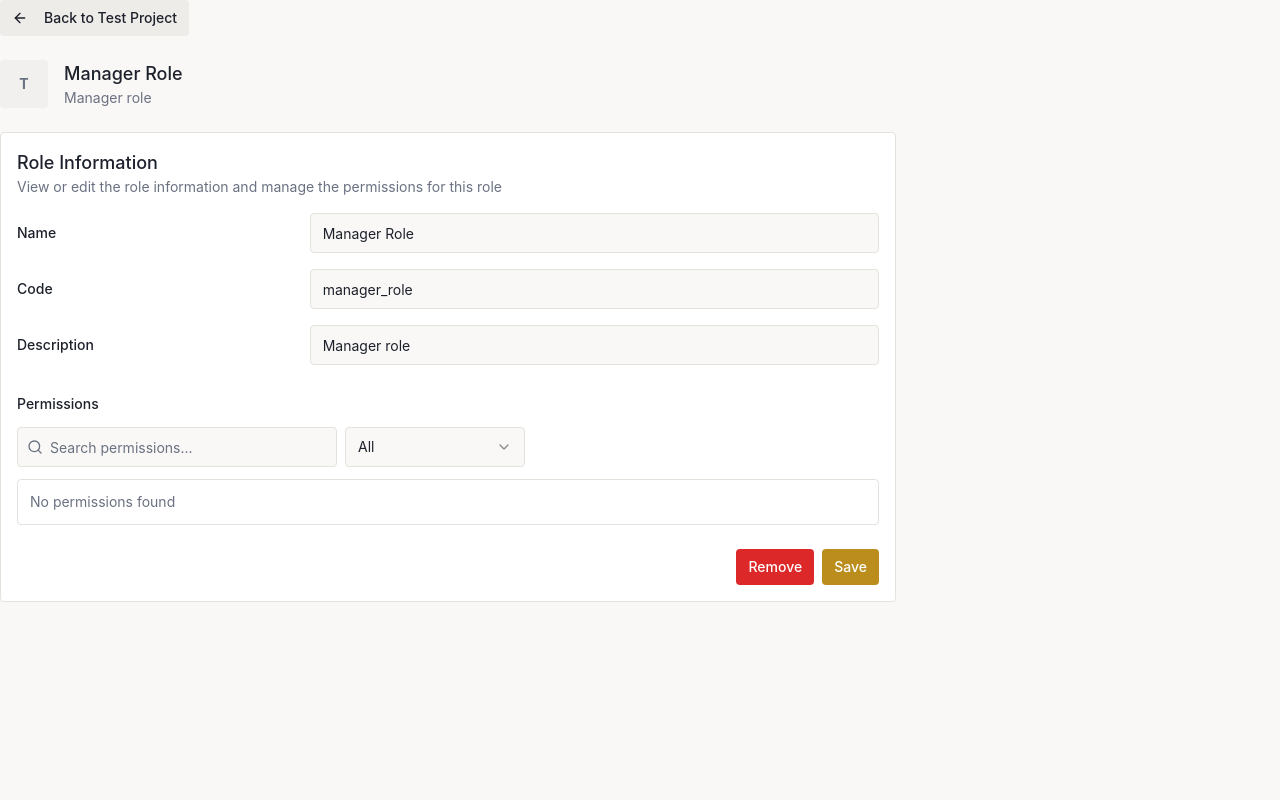
it: RoleDetails Page › opens confirm dialog when Remove is clicked
The image size is (1280, 800).
Check: the field showing "Manager Role" is shown, box [310,213,879,253]
Click the button "Remove": (775, 567) [736,549,814,585]
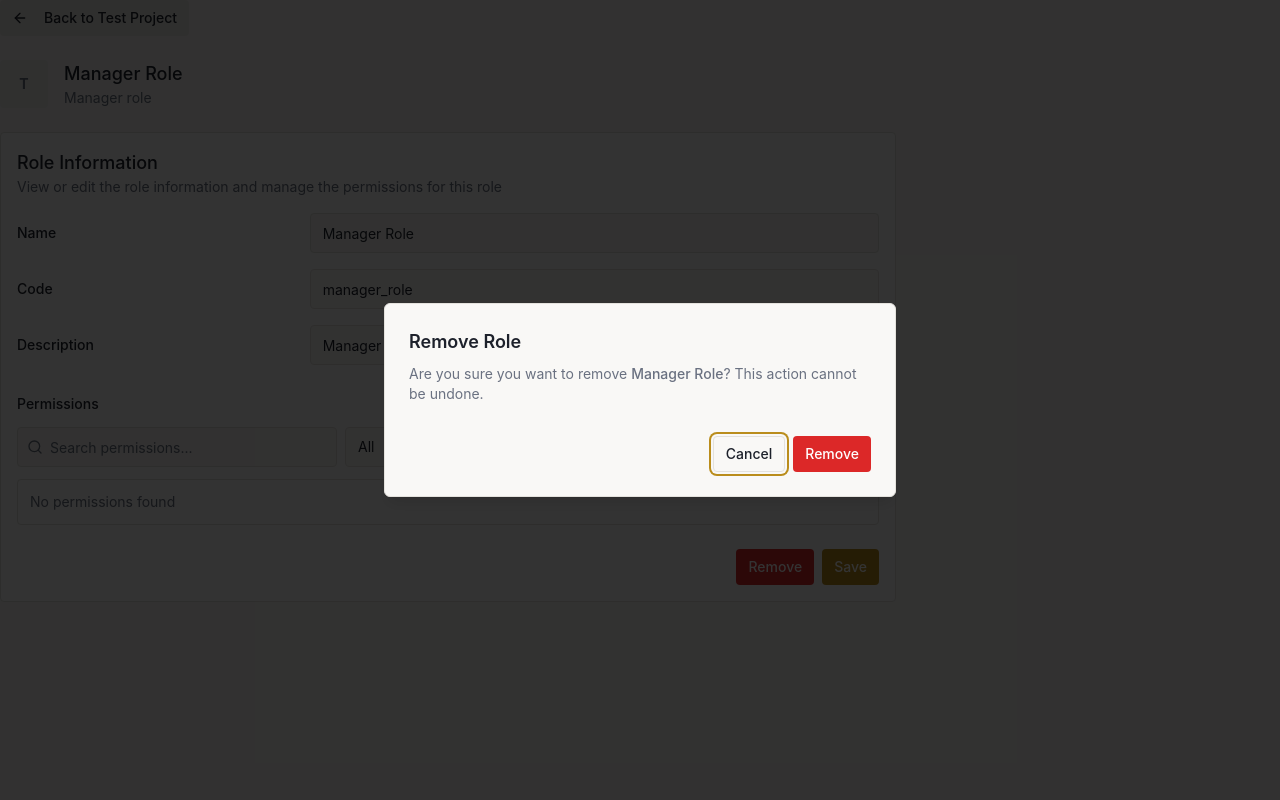
Check: the heading "Remove Role" is shown, box [409,331,521,352]
Check: the text "Are you sure you want to remove" is shown, box [409,365,631,382]
